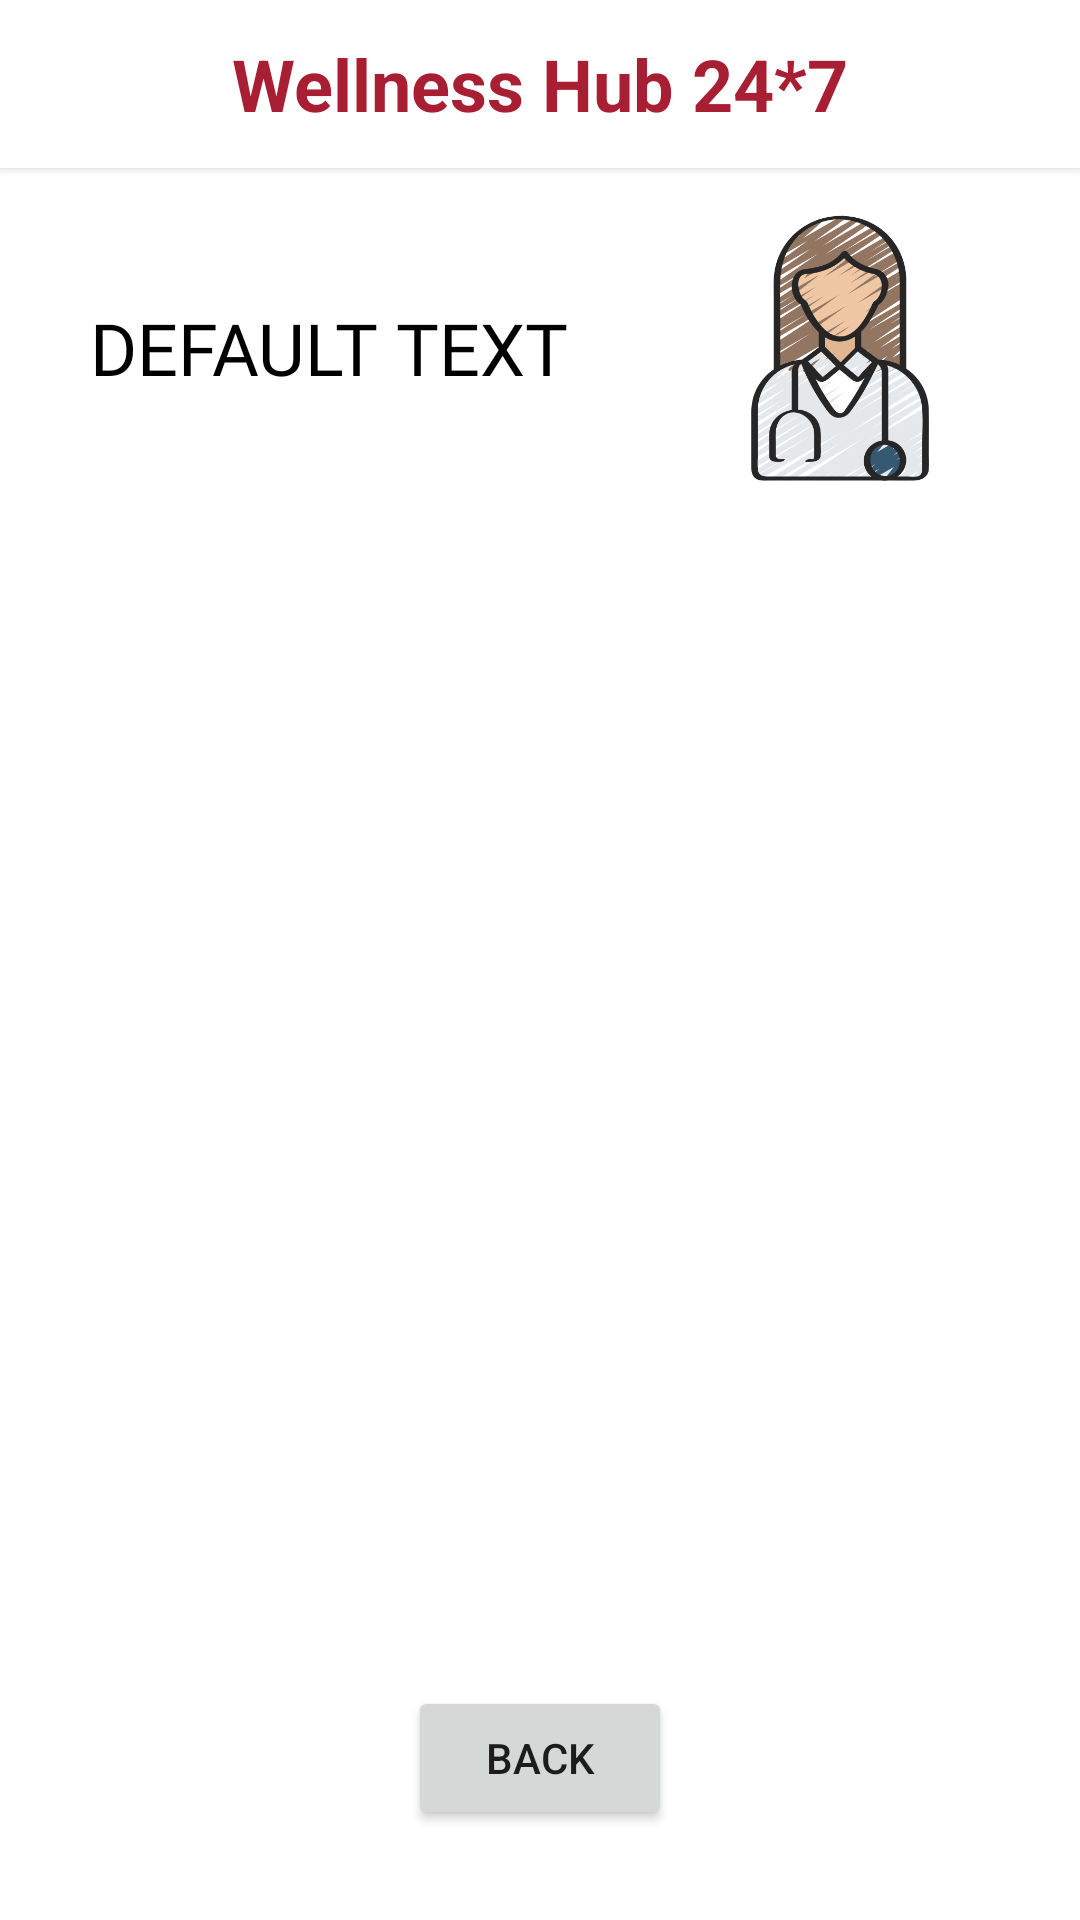

Icons on this 1080x1920 Android screen, each with its box as (x1, y1, x2, y2):
find doc: (751, 215, 929, 481)
